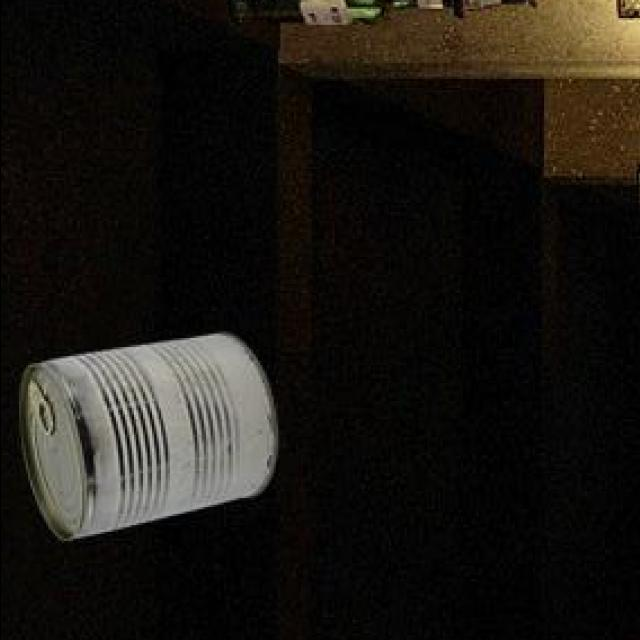logam: (17, 330, 274, 537)
